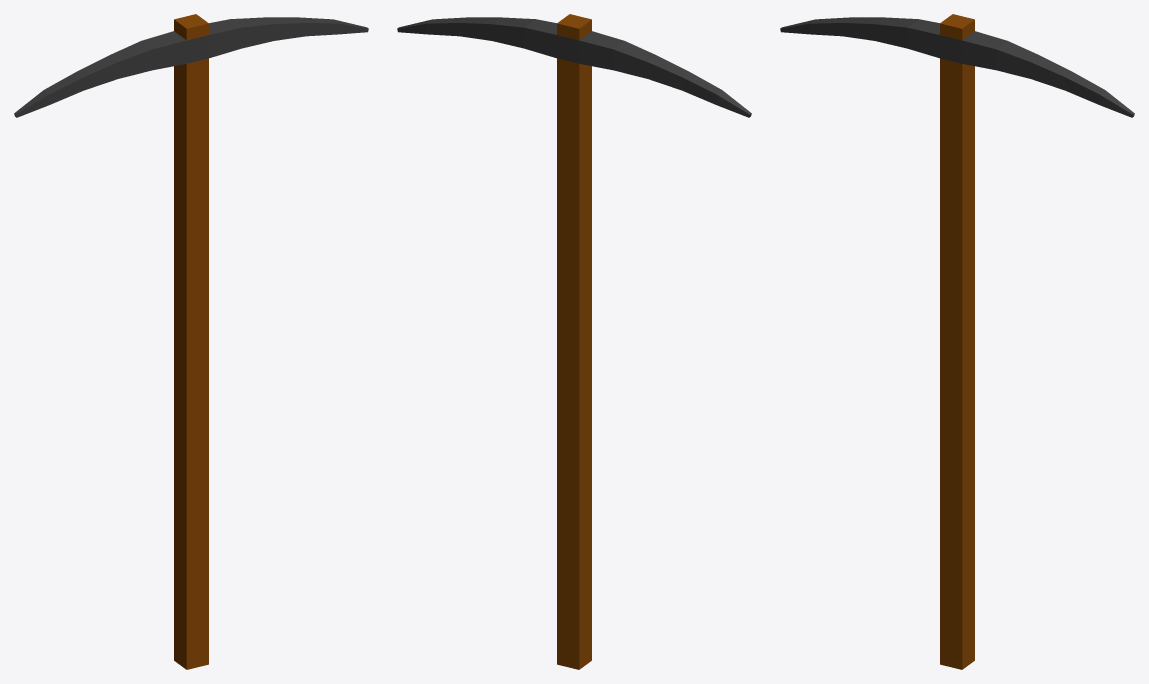
Rendered from Pickaxe.fbx.
The picture shows the model from 3 angles, left to right: view 1: azimuth 30°, elevation 25°; view 2: azimuth 150°, elevation 25°; view 3: azimuth 330°, elevation 25°; orthographic projection.
Parts seen in each view (by area): view 1: Pickaxe; view 2: Pickaxe; view 3: Pickaxe.
Part boxes in pixels (x1,y1,x2,y2): Pickaxe: [14, 14, 368, 669]; Pickaxe: [397, 14, 751, 669]; Pickaxe: [780, 14, 1134, 669].
Bounding box in the file's own units: 317 × 550 × 20.
